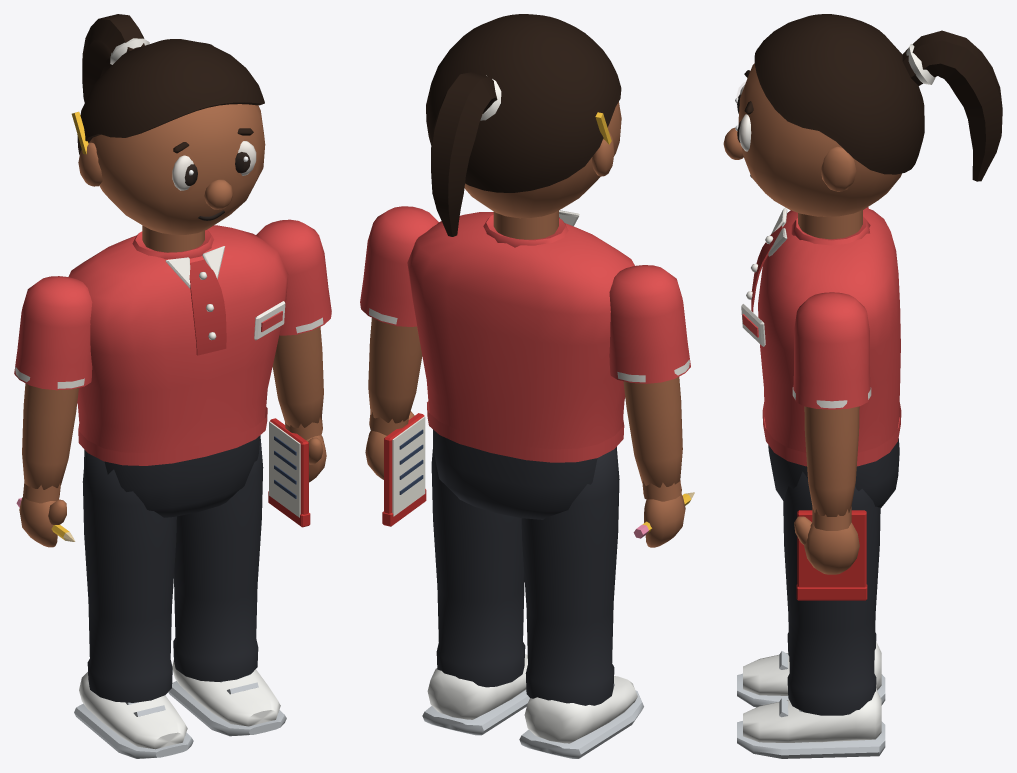
Rendered from Character_Class_cashier.fbx.
3 views of the same model, side by side, from view 1: azimuth 30°, elevation 25°; view 2: azimuth 150°, elevation 25°; view 3: azimuth 270°, elevation 25° (orthographic). The views are drawn at different scales.
Parts seen in each view (by area): view 1: Torso, LegR, Head, LegL, Hair, ArmR, Hips, ArmL, ArmR_Skin, ArmL_Skin, LegR_Shoe, LegL_Shoe (+10 smaller); view 2: Torso, Hair, LegR, LegL, Hips, ArmR, ArmL, Head, ArmR_Skin, ArmL_Skin, LegR_Shoe, LegL_Shoe (+6 smaller); view 3: Hair, Torso, LegL, Head, ArmL, ArmL_Skin, LegL_Shoe, Pad, HandL, Hips, LegL_Sole, LegR_Shoe (+3 smaller).
Part boxes in pixels (x1,y1,x2,y2): Torso: (68, 225, 288, 465); LegR: (82, 452, 176, 702); Head: (78, 104, 265, 252); LegL: (173, 435, 263, 681); Hair: (77, 14, 264, 154); ArmR: (14, 276, 92, 390); Hips: (84, 435, 260, 517); ArmL: (256, 219, 331, 335); ArmR_Skin: (22, 383, 78, 489); ArmL_Skin: (272, 327, 323, 427); LegR_Shoe: (79, 672, 187, 749); LegL_Shoe: (172, 660, 280, 726); Torso: (407, 212, 634, 462); Hair: (426, 14, 621, 236); LegR: (521, 448, 619, 705); LegL: (431, 447, 525, 687); Hips: (433, 429, 616, 519); ArmR: (609, 265, 690, 383); ArmL: (360, 206, 438, 326); Head: (464, 102, 621, 239); ArmR_Skin: (623, 377, 682, 487); ArmL_Skin: (368, 318, 422, 423); LegR_Shoe: (524, 676, 637, 743); LegL_Shoe: (427, 654, 527, 719); Hair: (754, 14, 1002, 181); Torso: (758, 208, 901, 466); LegL: (783, 471, 880, 715); Head: (723, 63, 901, 239); ArmL: (793, 292, 870, 409); ArmL_Skin: (804, 406, 859, 516); LegL_Shoe: (743, 688, 881, 742); Pad: (796, 510, 867, 600); HandL: (794, 506, 859, 574); Hips: (768, 438, 899, 507); LegL_Sole: (737, 698, 885, 758); LegR_Shoe: (743, 641, 881, 695).
Bounding box in the file's own units: 244 × 511 × 185.
